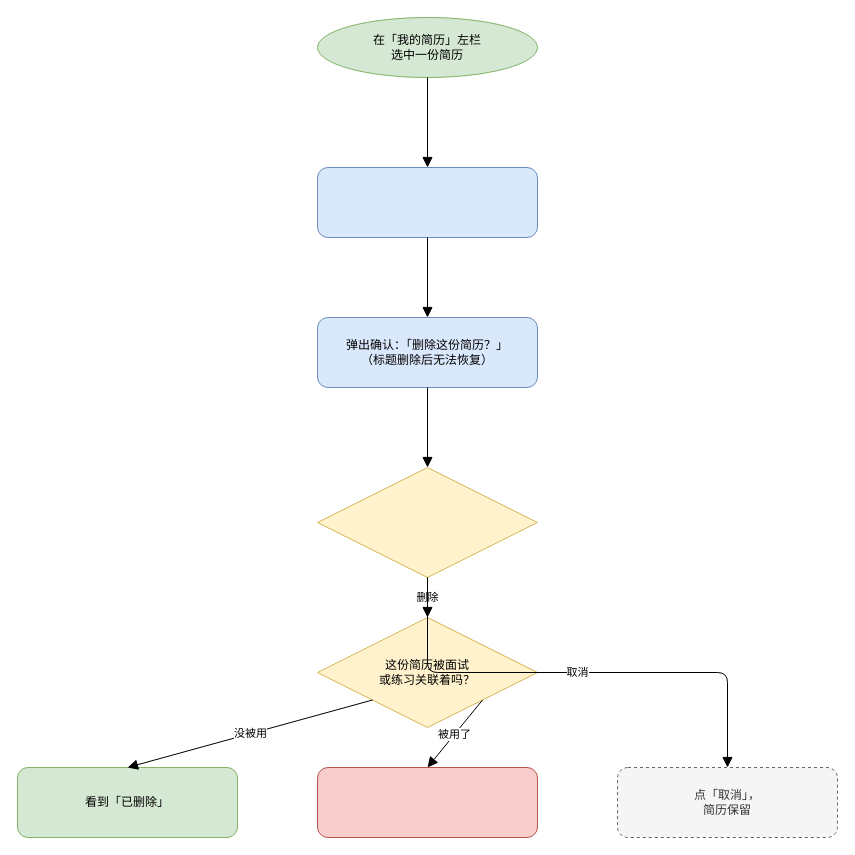
Image size: 855x855. Some labels were removed from this diagram. The centre of each missing label's shape, as x and y in pixels:
点「删除」还是「取消」？: (x=427, y=522)
点右侧的「删除」: (x=427, y=202)
看到「该简历已被面试 或练习关联，无法删除」: (x=427, y=802)
